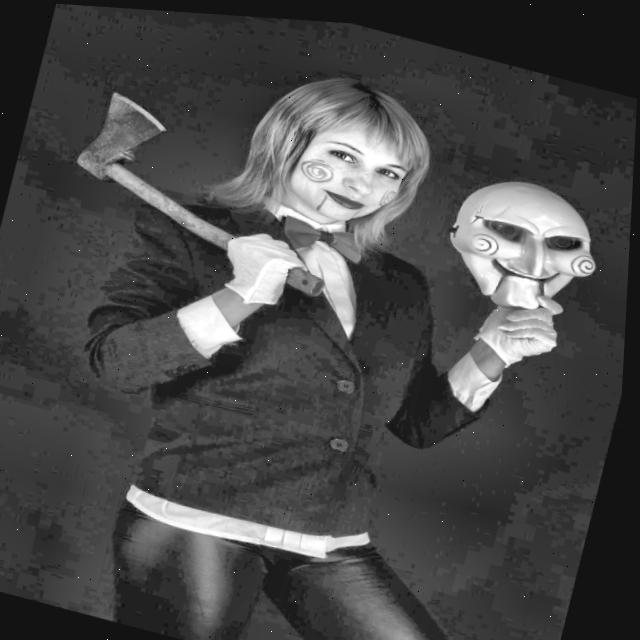kapak: (53, 79, 354, 309)
